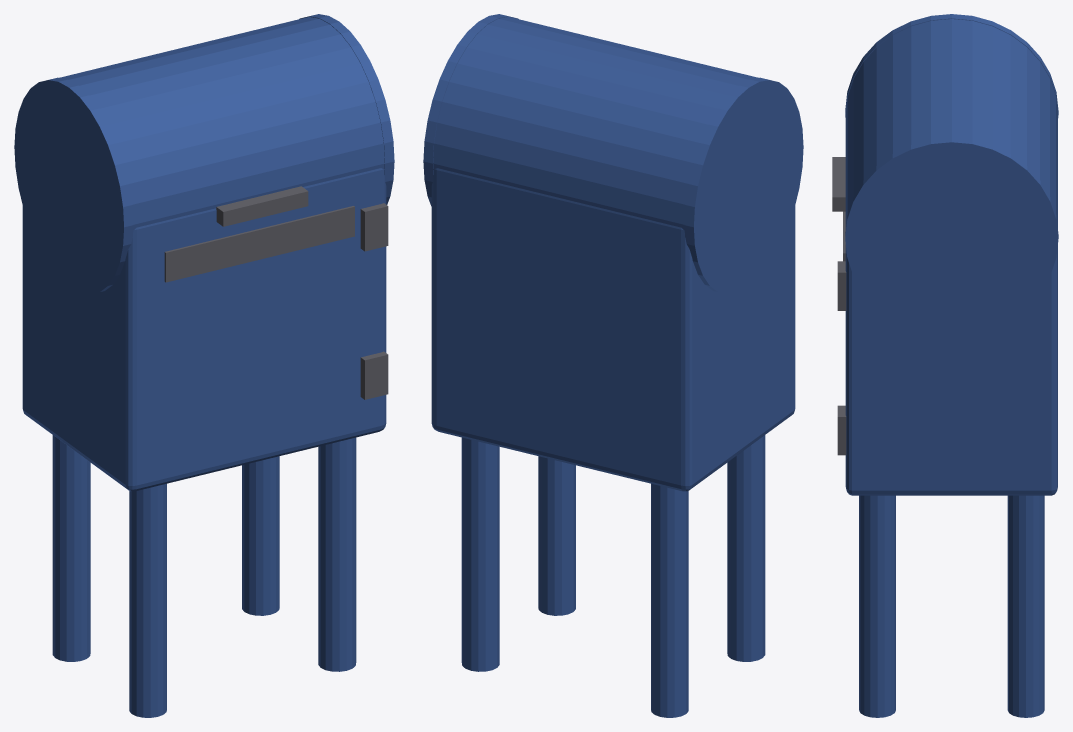
Rendered from mailbox.glb.
3 views of the same model, side by side, from view 1: azimuth 30°, elevation 25°; view 2: azimuth 150°, elevation 25°; view 3: azimuth 270°, elevation 25° (orthographic). The views are drawn at different scales.
Parts seen in each view (by area): view 1: Cube, Cylinder, Cylinder.001, Cylinder.005, Cylinder.003, Cylinder.004, Cube.001, Cylinder.006, Cylinder.002, Cube.002, Cube.003, Cube.004; view 2: Cube, Cylinder, Cylinder.001, Cylinder.006, Cylinder.004, Cylinder.003, Cylinder.005, Cylinder.002; view 3: Cube, Cylinder.002, Cylinder, Cylinder.006, Cylinder.005, Cylinder.001, Cube.002, Cube.003, Cube.004.
Part boxes in pixels (left/top/right/bottom): Cube: left=22, top=168, right=386, bottom=491; Cylinder: left=59, top=17, right=384, bottom=230; Cylinder.001: left=14, top=77, right=133, bottom=294; Cylinder.005: left=318, top=437, right=356, bottom=671; Cylinder.003: left=129, top=483, right=166, bottom=717; Cylinder.004: left=52, top=435, right=90, bottom=661; Cube.001: left=164, top=206, right=354, bottom=282; Cylinder.006: left=242, top=456, right=279, bottom=615; Cylinder.002: left=299, top=14, right=394, bottom=204; Cube.002: left=216, top=186, right=308, bottom=226; Cube.003: left=360, top=351, right=388, bottom=399; Cube.004: left=360, top=203, right=388, bottom=251; Cube: left=431, top=168, right=795, bottom=491; Cylinder: left=433, top=17, right=758, bottom=230; Cylinder.001: left=684, top=77, right=803, bottom=294; Cylinder.006: left=461, top=437, right=499, bottom=671; Cylinder.004: left=651, top=483, right=688, bottom=717; Cylinder.003: left=727, top=435, right=765, bottom=661; Cylinder.005: left=538, top=456, right=575, bottom=615; Cylinder.002: left=423, top=14, right=518, bottom=206; Cube: left=845, top=245, right=1057, bottom=495; Cylinder.002: left=845, top=137, right=1058, bottom=335; Cylinder: left=845, top=19, right=1057, bottom=228; Cylinder.006: left=1007, top=495, right=1044, bottom=717; Cylinder.005: left=859, top=495, right=895, bottom=717; Cylinder.001: left=845, top=14, right=1058, bottom=117; Cube.002: left=832, top=157, right=845, bottom=211; Cube.003: left=837, top=405, right=846, bottom=455; Cube.004: left=837, top=261, right=846, bottom=310.
Size of what is drawn, in the model's own units: 0.572 by 1.22 by 0.426.
